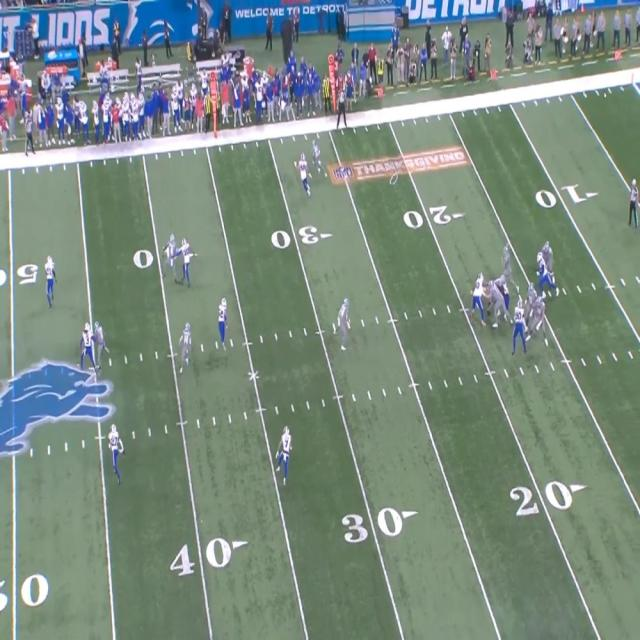db: (108, 425, 122, 484), (279, 426, 292, 483), (43, 255, 55, 308), (80, 322, 92, 372), (180, 238, 192, 284)
lb: (216, 299, 227, 347), (300, 154, 308, 198)
skill: (339, 298, 352, 352), (180, 323, 191, 374), (165, 233, 177, 276), (94, 320, 104, 364), (313, 138, 321, 171)
